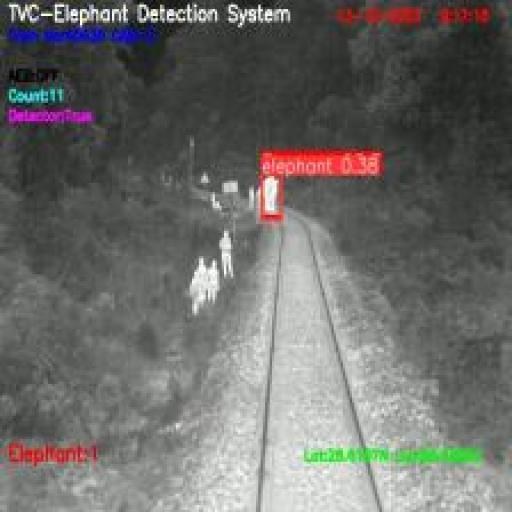Elephant: (261, 174, 280, 218)
